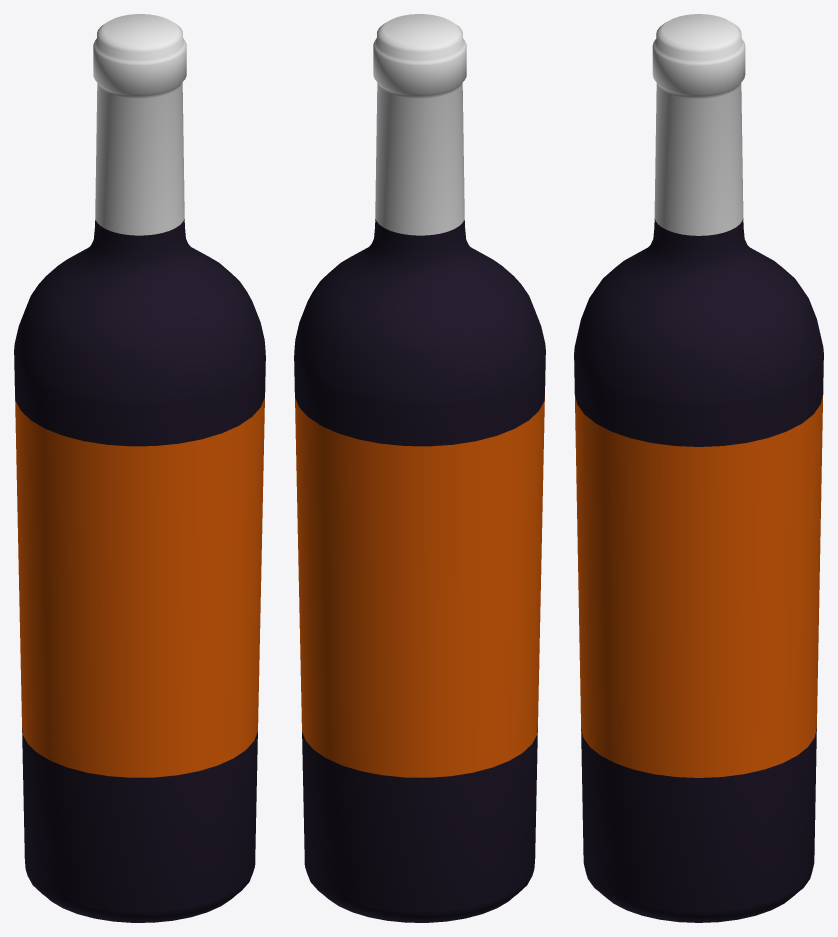
Rendered from WineBottleMosquita.fbx.
3 views of the same model, side by side, from view 1: azimuth 30°, elevation 25°; view 2: azimuth 150°, elevation 25°; view 3: azimuth 270°, elevation 25° (orthographic).
Visible parts, largest first — view 1: Bottle; view 2: Bottle; view 3: Bottle.
Boxes of the visible parts, x1,y1,x2,y2 form: Bottle: (14, 14, 265, 922); Bottle: (294, 14, 545, 922); Bottle: (574, 14, 823, 922).
Size of the model in its own units: 344 by 1284 by 340.
